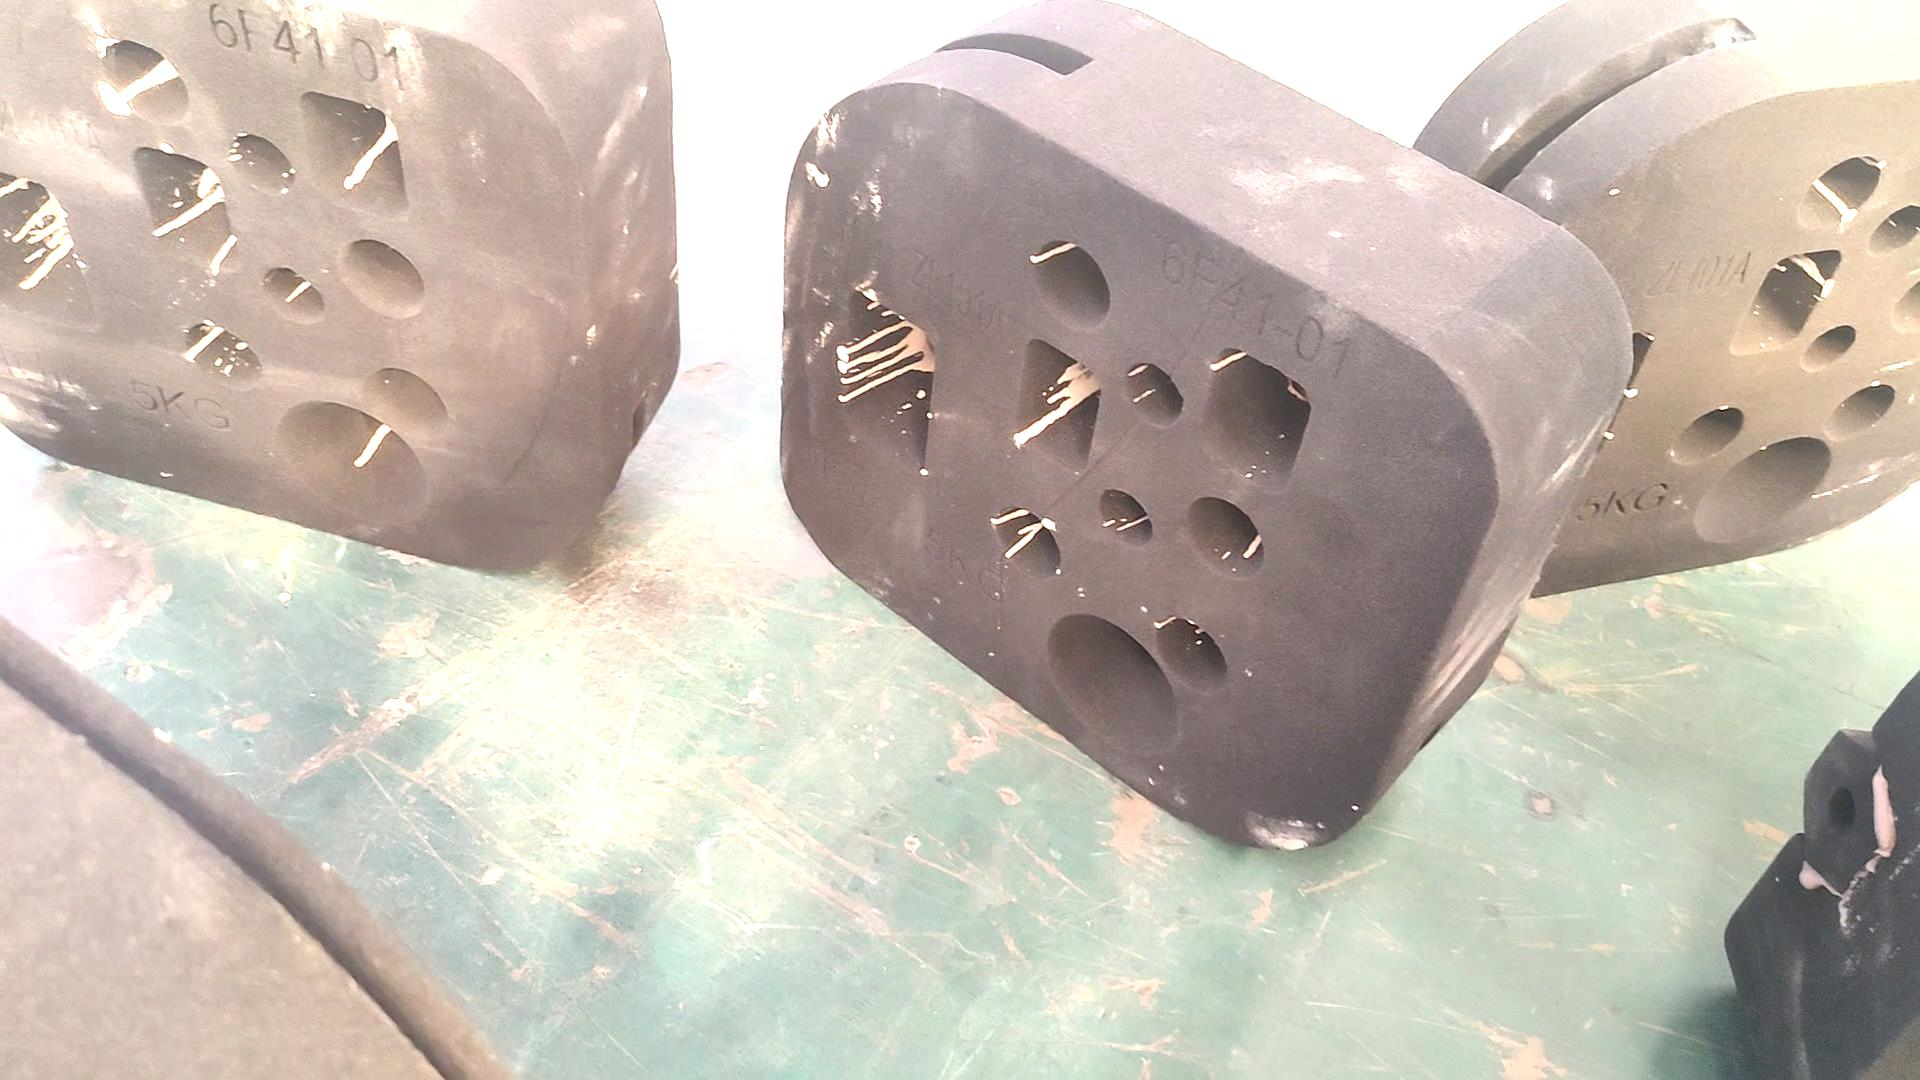pouring hole: (276, 400, 429, 531), (1046, 613, 1178, 756), (1693, 436, 1832, 541)
